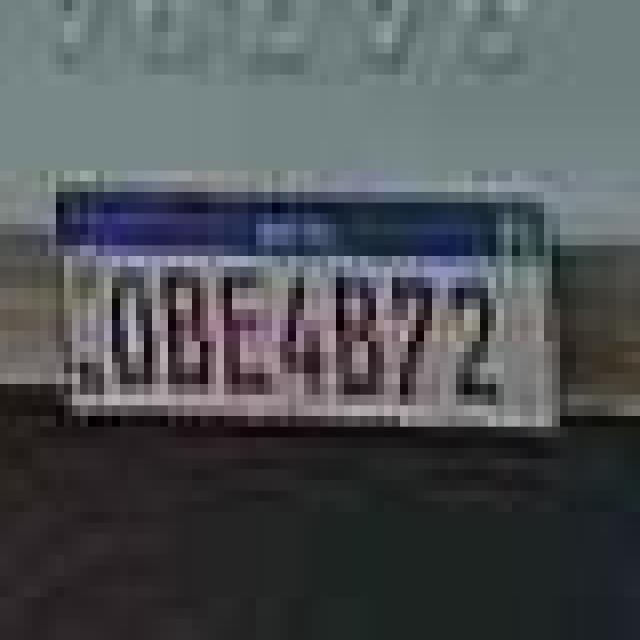4: (273, 264, 321, 400)
7: (391, 271, 438, 402)
B: (330, 259, 387, 406), (160, 261, 210, 395)
E: (216, 261, 275, 399)
O: (109, 259, 154, 393)
